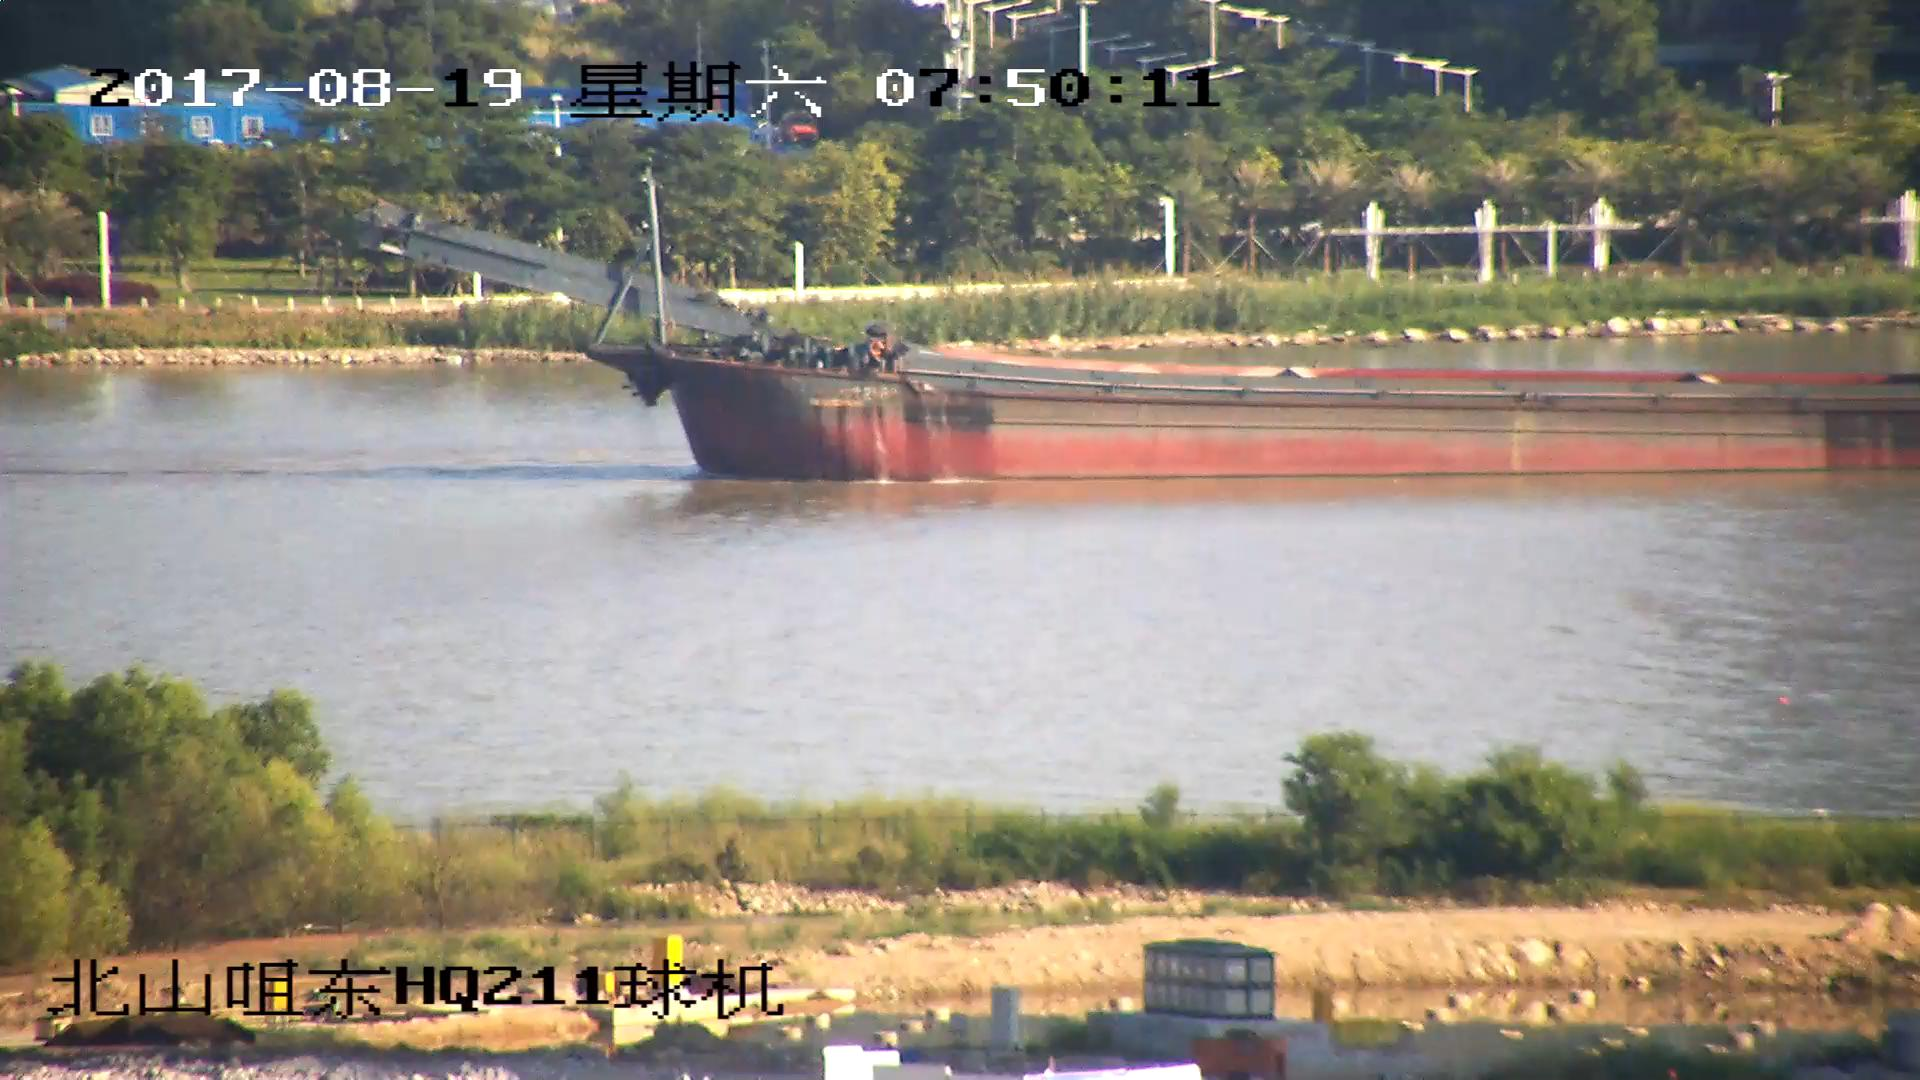bulk cargo carrier: (359, 197, 1920, 483)
